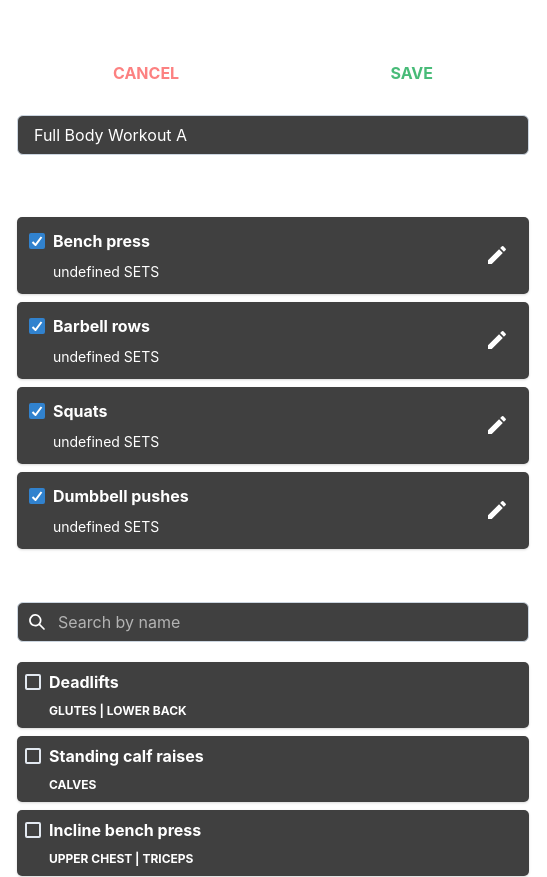
Test: SingleRoutinePage › throws an error when a routine with no name is submitted
The image size is (547, 877).
Expected: the field with placeholder "Search by name" is shown, [17, 602, 529, 642]
Expected: the text "SAVE" is shown, [390, 61, 433, 85]
Clear the field showing "Full Body Workout A" at (273, 135), box [17, 115, 529, 155]
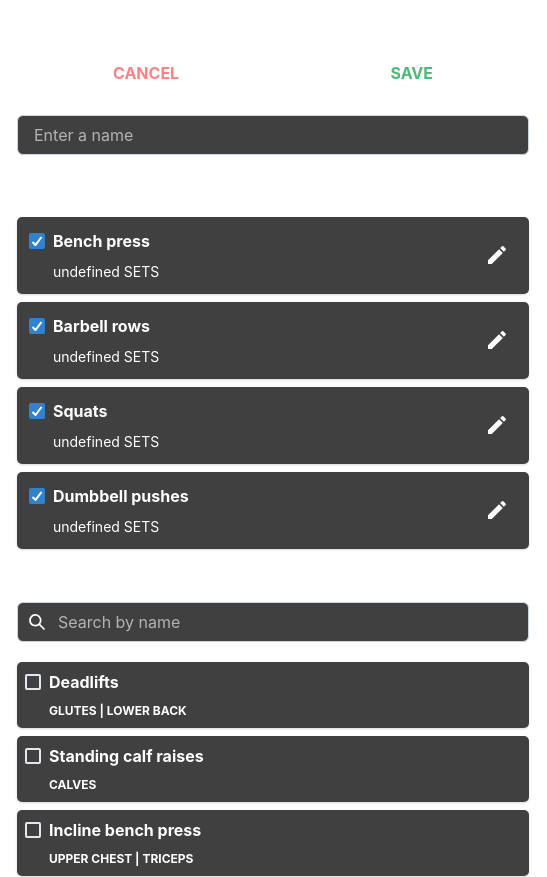
Click the text "SAVE" at (412, 73), box [390, 61, 433, 85]
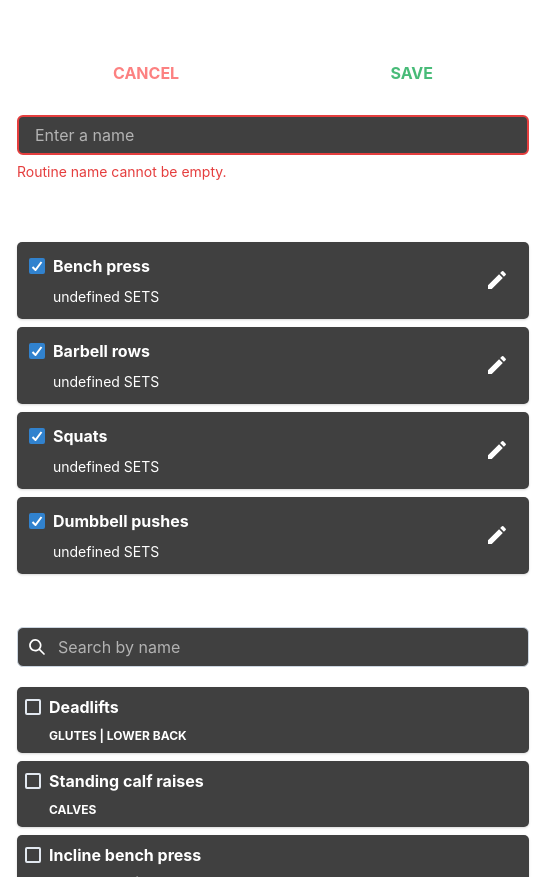
Expected: the text "Routine name cannot be empty." is shown, [17, 163, 227, 180]
